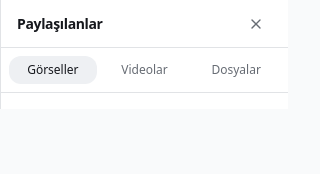
Scenario: RoomPanel › drops a file list for the room left behind
// Files tab.
Click the button "Dosyalar" at (236,70), box [192,56,280,84]
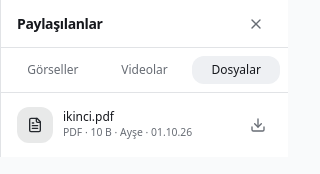
Check: the text "ikinci.pdf" is shown, box [63,108,114,125]
